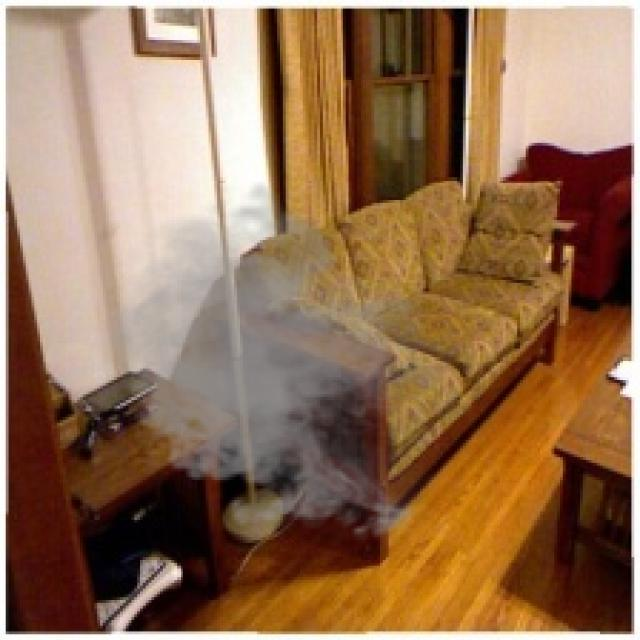Smoke: (86, 180, 480, 549)
